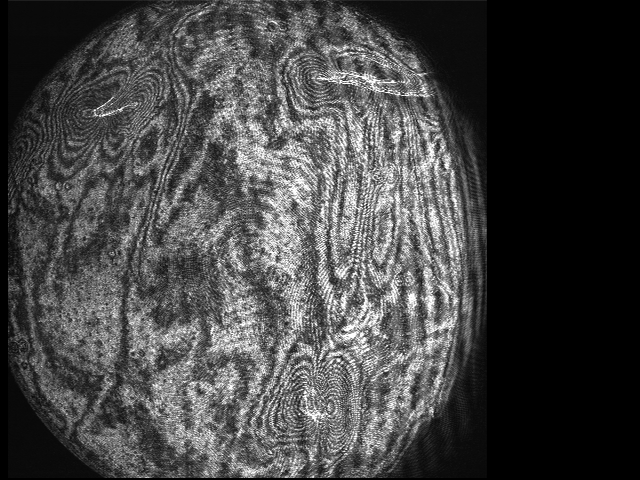plume: (261, 360, 364, 455)
